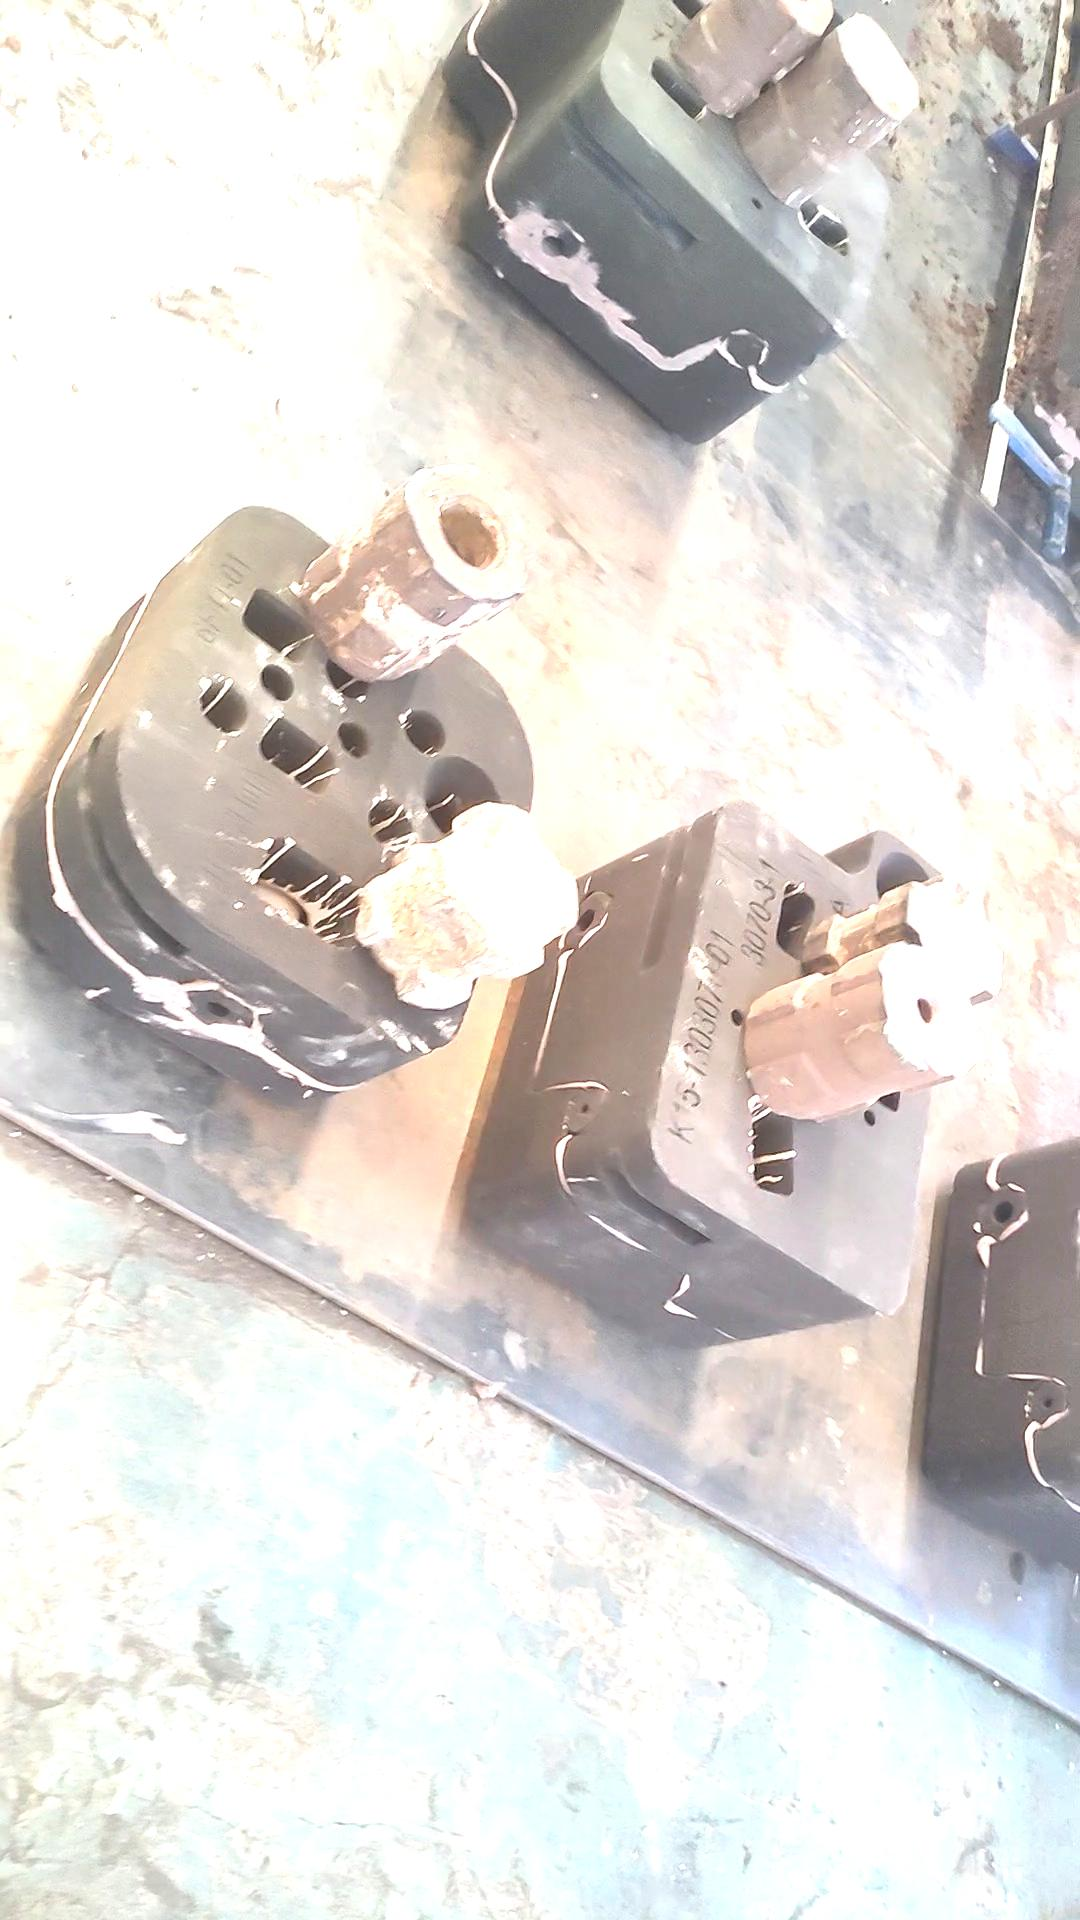pouring hole: (421, 756, 508, 847), (876, 851, 934, 920)
